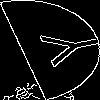Y: (25, 25, 100, 70)
